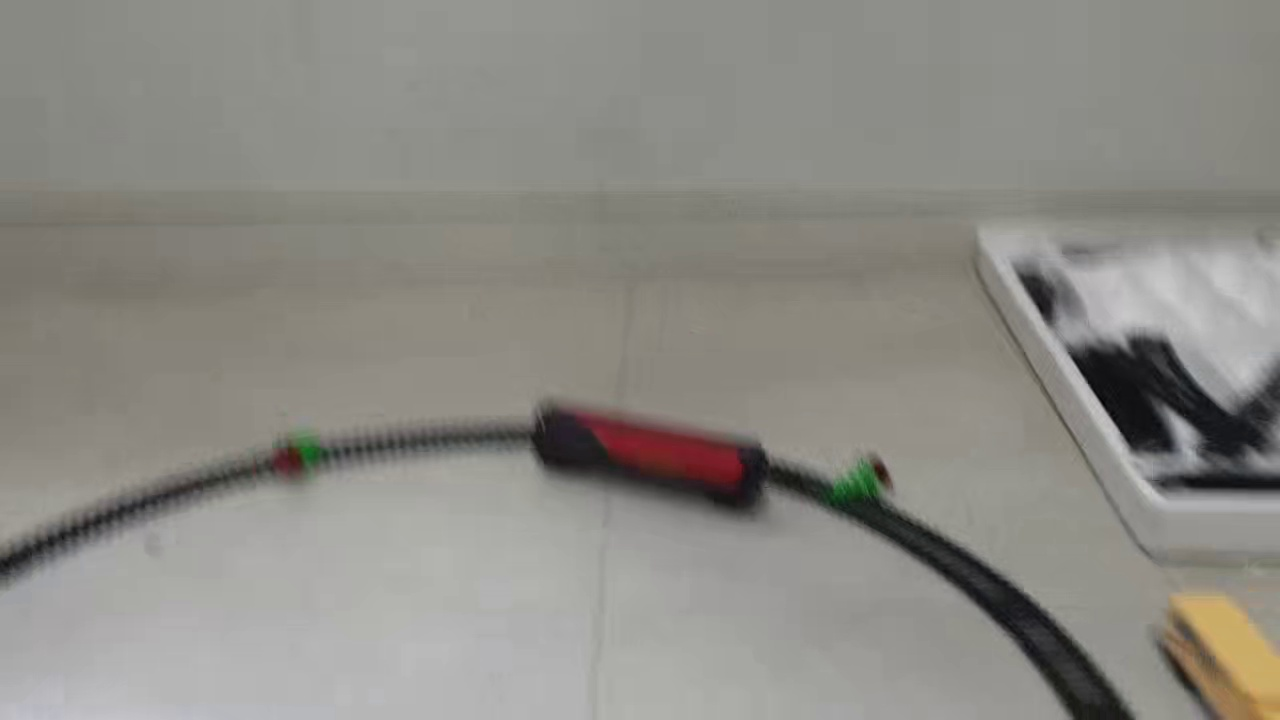tree: (824, 450, 897, 511), (259, 429, 328, 486)
